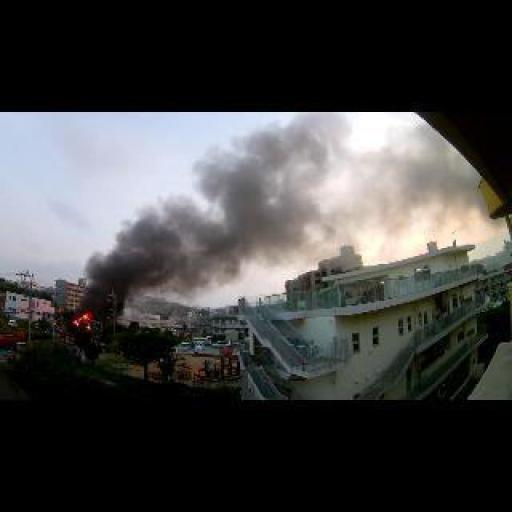smoke: (204, 114, 490, 254), (132, 184, 282, 293), (75, 236, 147, 322), (70, 314, 90, 330)
